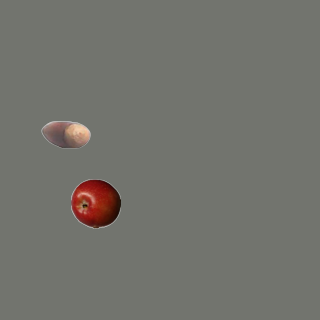Apple Braeburn: (70, 178, 120, 228)
Hazelnut: (40, 109, 90, 159)
